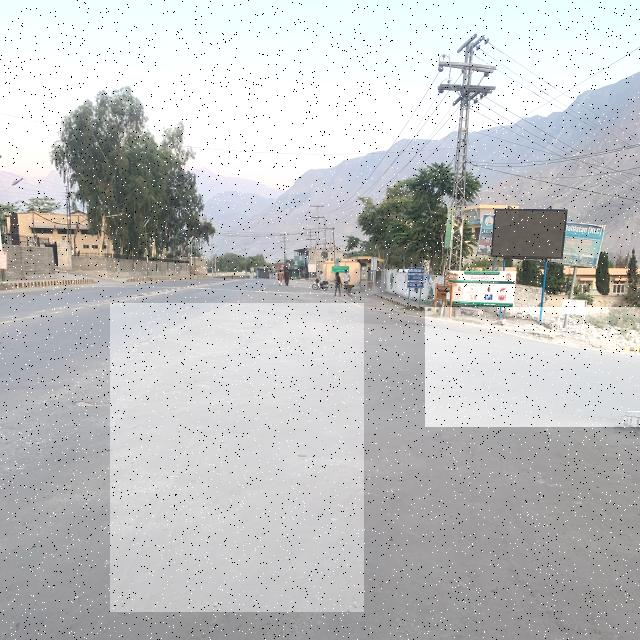right: (425, 307, 640, 427)
straight: (110, 303, 364, 612)
